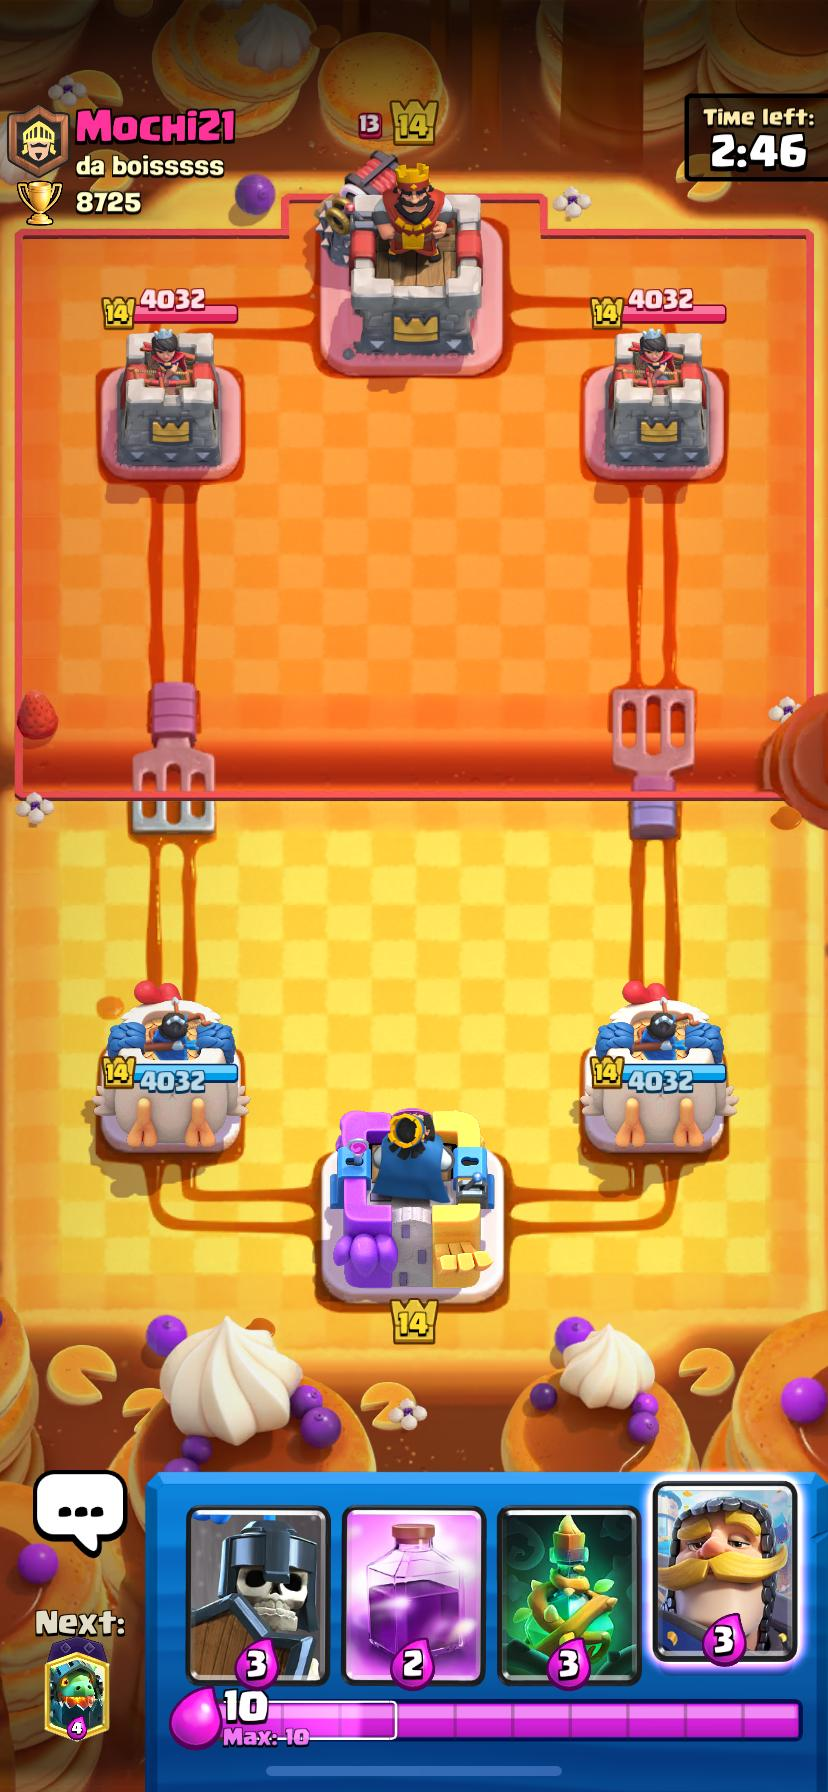EKingTower: (318, 155, 483, 374)
ESparky: (312, 151, 401, 267)
EnemyPrincessTower: (101, 328, 240, 480), (586, 329, 723, 480)
OwnKingTower: (321, 1113, 503, 1303)
OwnPrincessTower: (580, 982, 735, 1154), (93, 983, 248, 1151)
